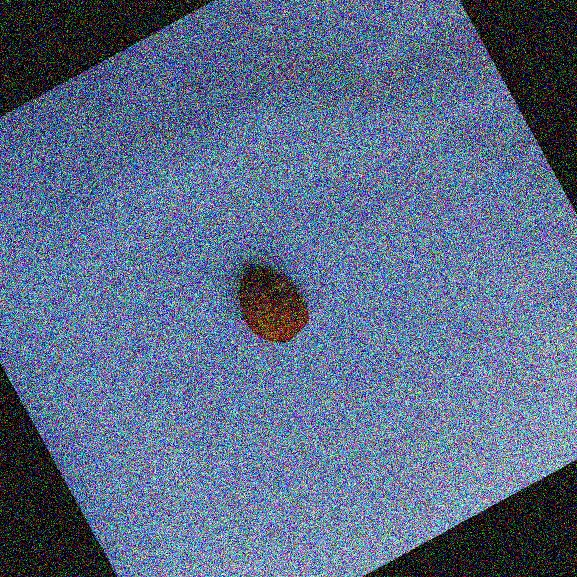grade3: (222, 248, 323, 359)
